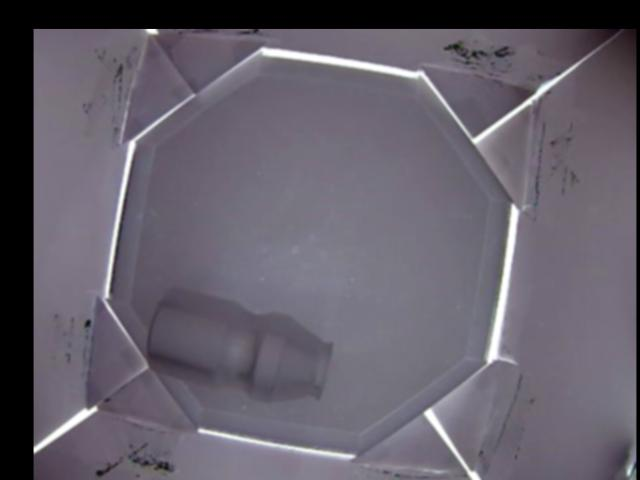Bottle: (142, 285, 335, 398)
